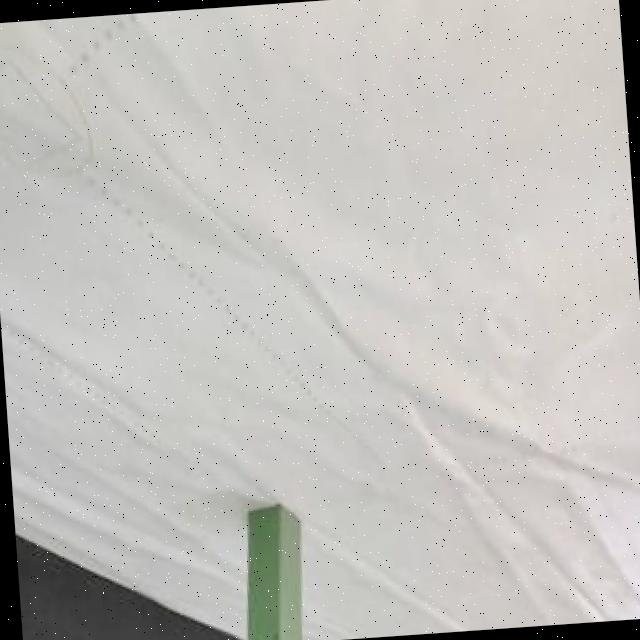greenbox: (237, 501, 310, 640)
